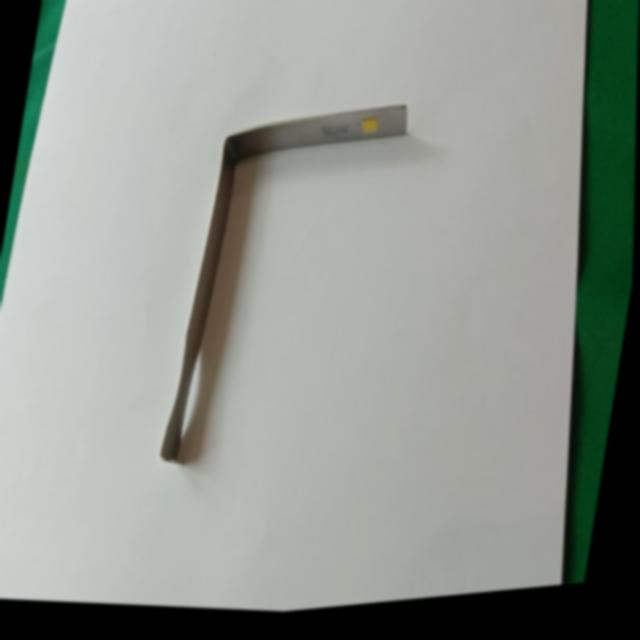AustinRetractor: (148, 69, 425, 519)
